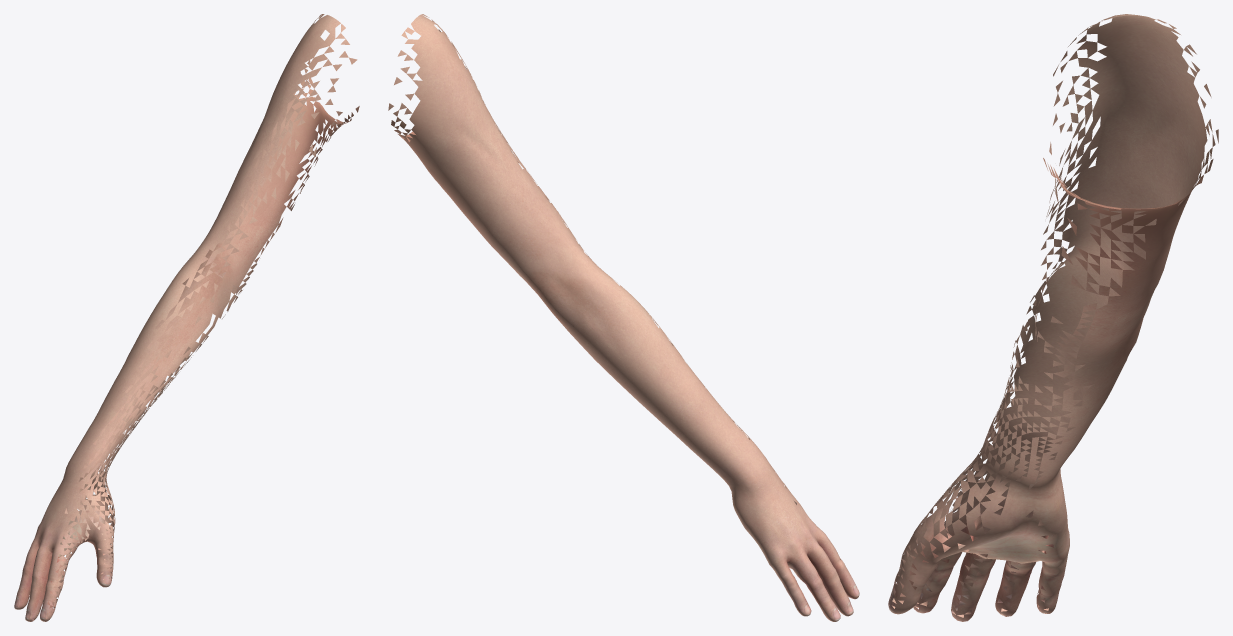
Rendered from brazoDerecho.obj.
The picture shows the model from 3 angles, left to right: view 1: azimuth 30°, elevation 25°; view 2: azimuth 150°, elevation 25°; view 3: azimuth 270°, elevation 25°; orthographic projection. The views are drawn at different scales.
Visible parts, largest first — view 1: body; view 2: body; view 3: body.
Boxes of the visible parts, x1,y1,x2,y2 form: body: (14,14,359,621); body: (388,14,859,621); body: (888,14,1218,621).
Size of the model in its own units: 0.4533 by 0.5938 by 0.1919.
1 material, 1 textured.
